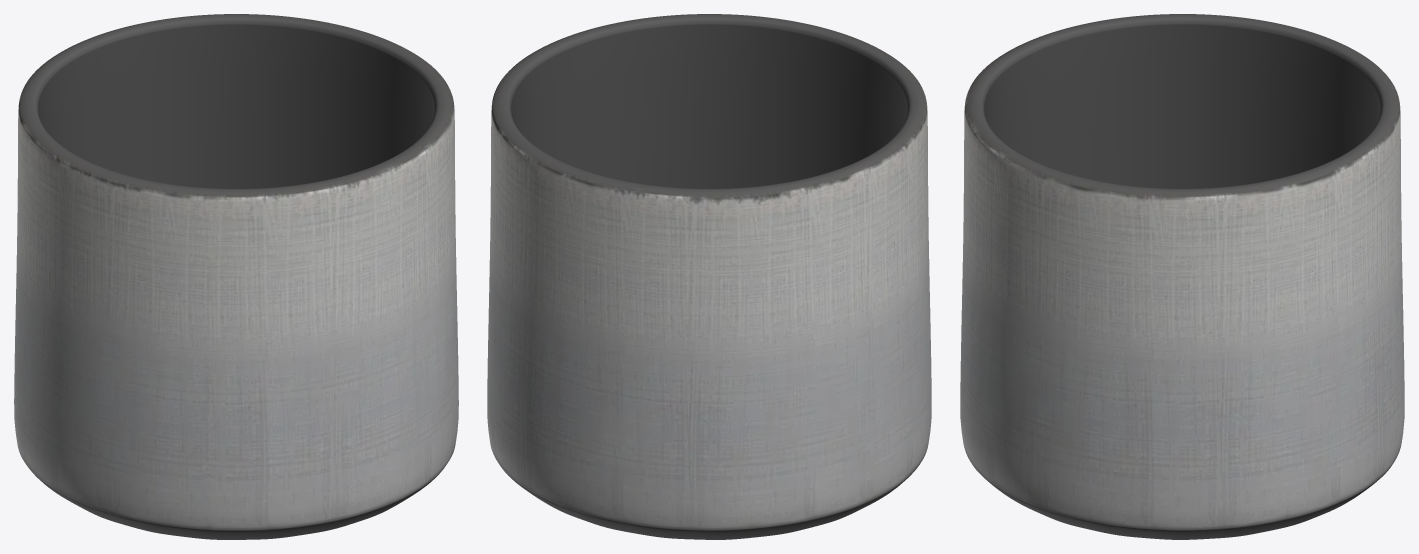
File: abo-B07QGG6BHT.glb
The picture shows the model from 3 angles, left to right: view 1: azimuth 30°, elevation 25°; view 2: azimuth 150°, elevation 25°; view 3: azimuth 270°, elevation 25°; orthographic projection.
Bounding box in the file's own units: 0.226 × 0.201 × 0.226.
Materials: 1 (1 with a texture image).
